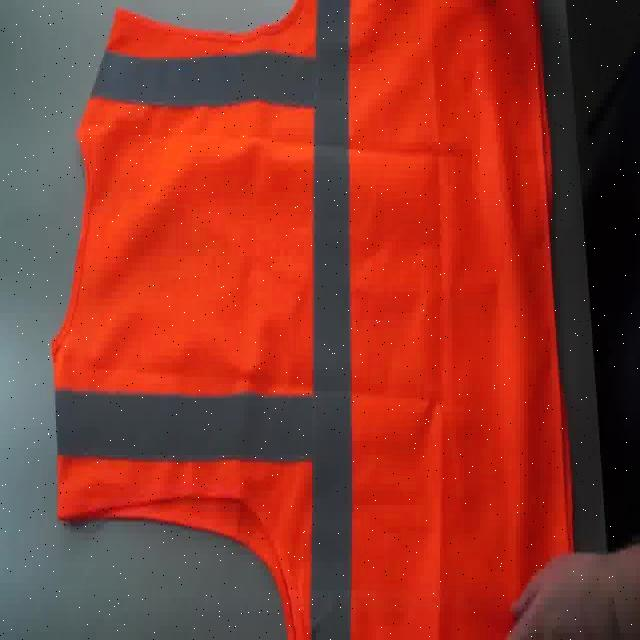Vest: (69, 0, 549, 640)
